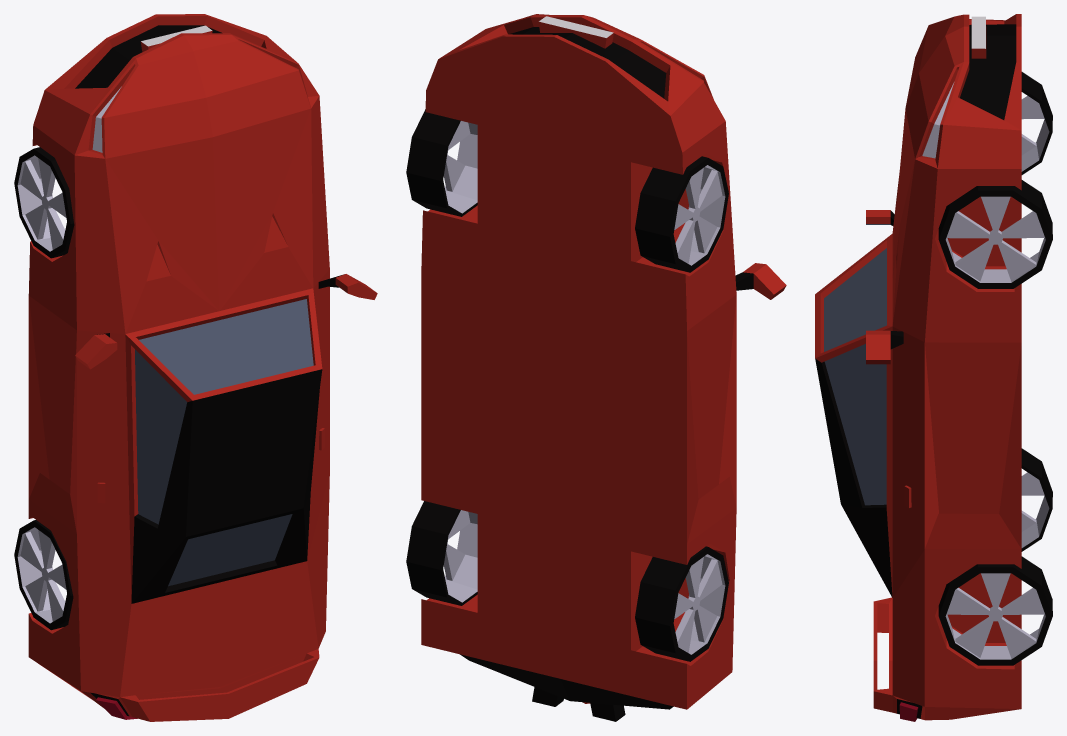
Rendered from Sports.glb.
3 views of the same model, side by side, from view 1: azimuth 30°, elevation 25°; view 2: azimuth 150°, elevation 25°; view 3: azimuth 270°, elevation 25° (orthographic). The views are drawn at different scales.
Parts seen in each view (by area): view 1: Mesh_0; view 2: Mesh_0; view 3: Mesh_0.
Boxes of the visible parts, box(x1,y1,x2,y2) form: Mesh_0: box(14, 14, 377, 721); Mesh_0: box(406, 14, 786, 721); Mesh_0: box(815, 14, 1052, 721).
Size of the model in its own units: 2.63 by 5.73 by 1.84.
